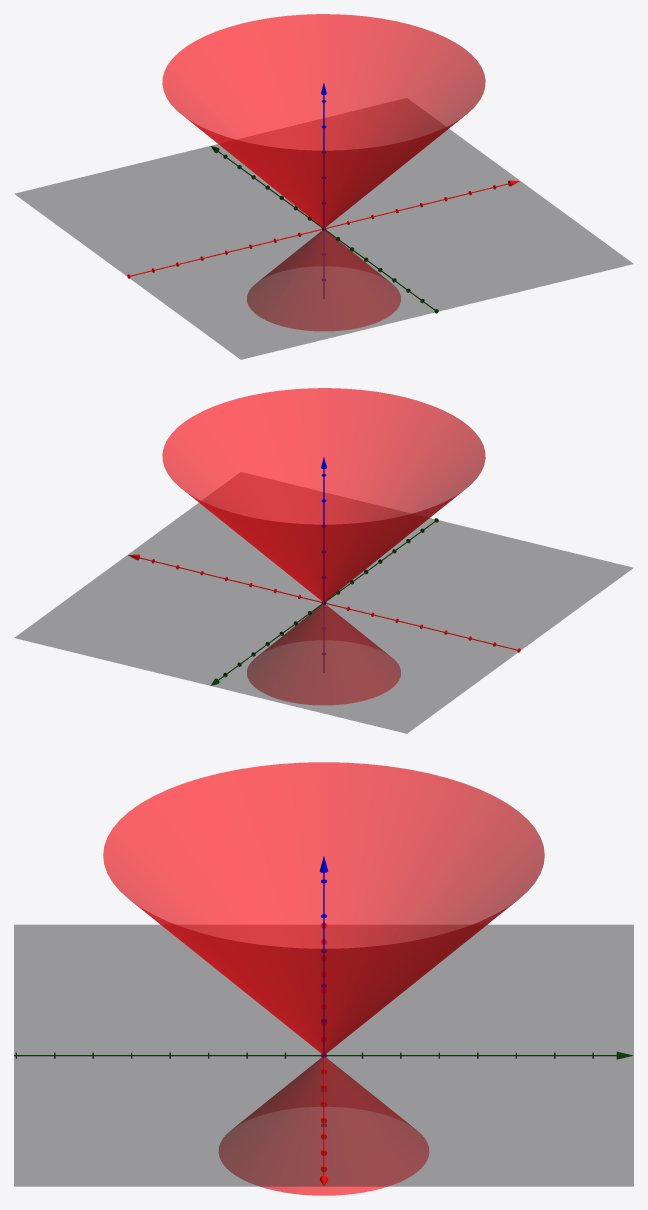
The model's file is xyz.glb.
3 views of the same model, one above another, from view 1: azimuth 30°, elevation 25°; view 2: azimuth 150°, elevation 25°; view 3: azimuth 270°, elevation 25° (orthographic). The views are drawn at different scales.
Parts seen in each view (by area): view 1: xOyPlane_2, eq1_2, eq1, xAxis, yAxis; view 2: xOyPlane_2, eq1_2, eq1, xAxis, yAxis; view 3: xOyPlane_2, eq1_2, eq1, yAxis.
Boxes of the visible parts, x1=… form: xOyPlane_2: x1=14, y1=98, x2=633, y2=359; eq1_2: x1=162, y1=14, x2=485, y2=227; eq1: x1=247, y1=230, x2=400, y2=330; xAxis: x1=127, y1=180, x2=519, y2=278; yAxis: x1=211, y1=146, x2=438, y2=313; xOyPlane_2: x1=14, y1=472, x2=633, y2=733; eq1_2: x1=162, y1=388, x2=485, y2=601; eq1: x1=247, y1=604, x2=400, y2=704; xAxis: x1=128, y1=554, x2=520, y2=652; yAxis: x1=210, y1=518, x2=438, y2=685; xOyPlane_2: x1=14, y1=924, x2=633, y2=1186; eq1_2: x1=103, y1=762, x2=544, y2=1054; eq1: x1=219, y1=1058, x2=428, y2=1195; yAxis: x1=14, y1=1051, x2=633, y2=1059.
Bounding box in the file's own units: 0.1612 × 0.0849 × 0.1612.
